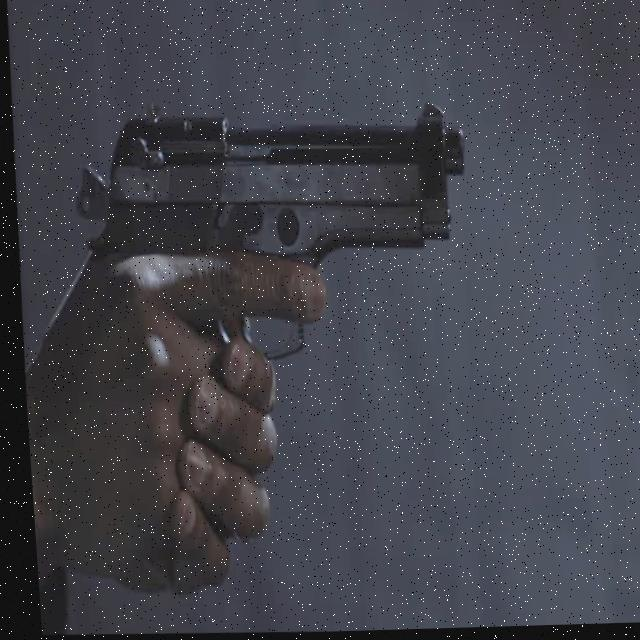pistol: (59, 85, 477, 374)
